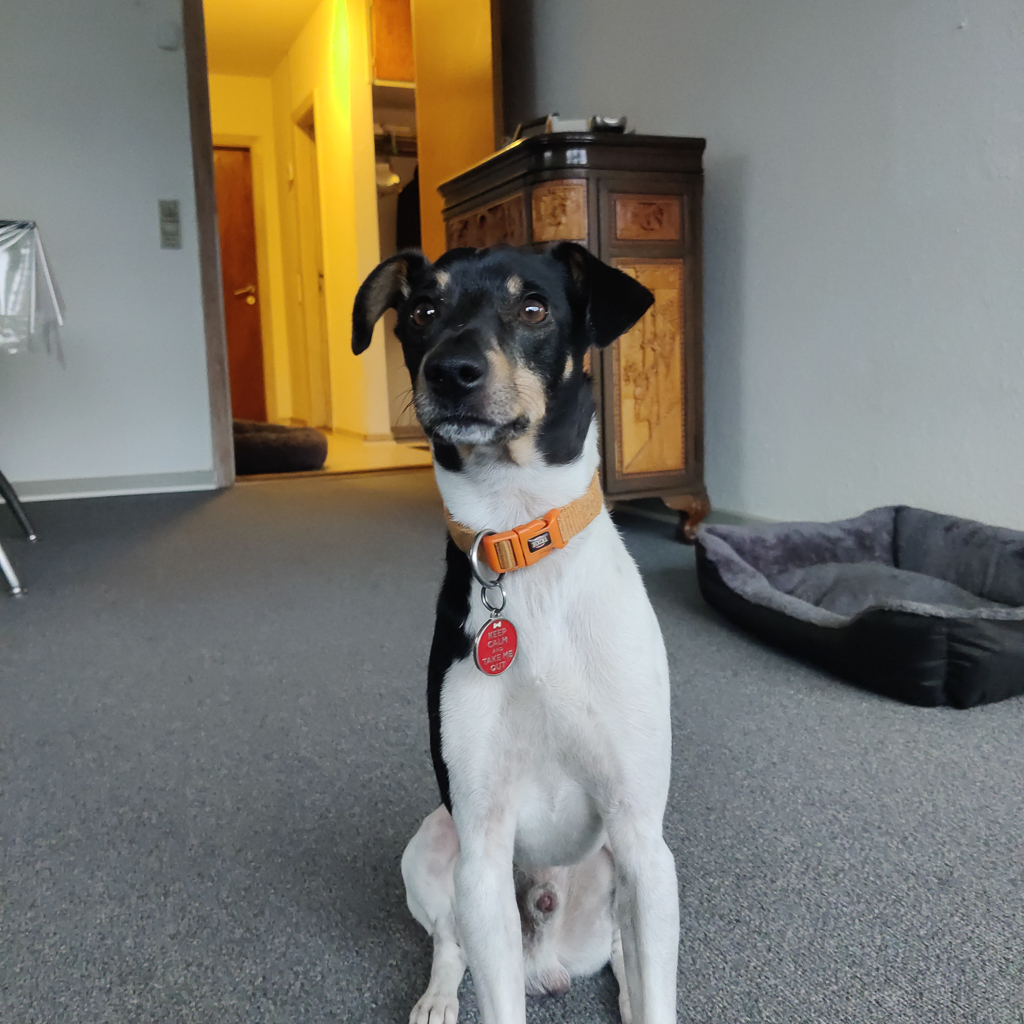Dog: (312, 221, 733, 1024)
